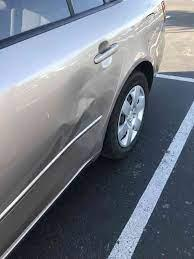doorouter-dent: (1, 24, 114, 199)
